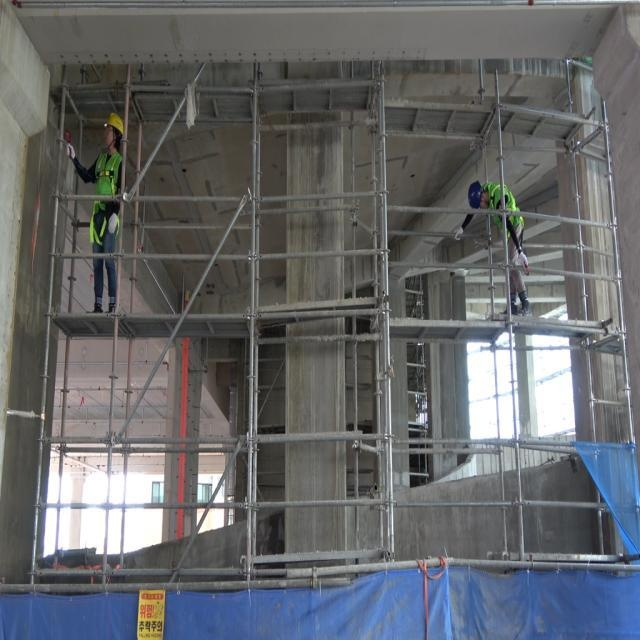Arnes_seguridad: (90, 153, 120, 246), (484, 182, 524, 244)
